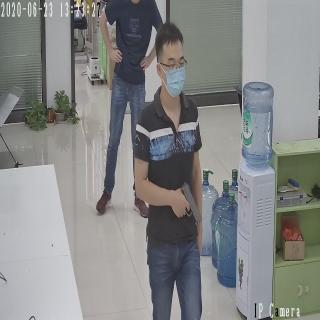gun: (173, 182, 203, 225)
